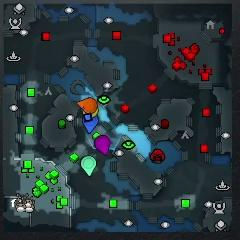p1: (83, 117, 99, 133)
p2: (81, 156, 96, 177)
p3: (95, 136, 111, 156)
p4: (83, 107, 99, 118)
p5: (78, 97, 98, 113)
